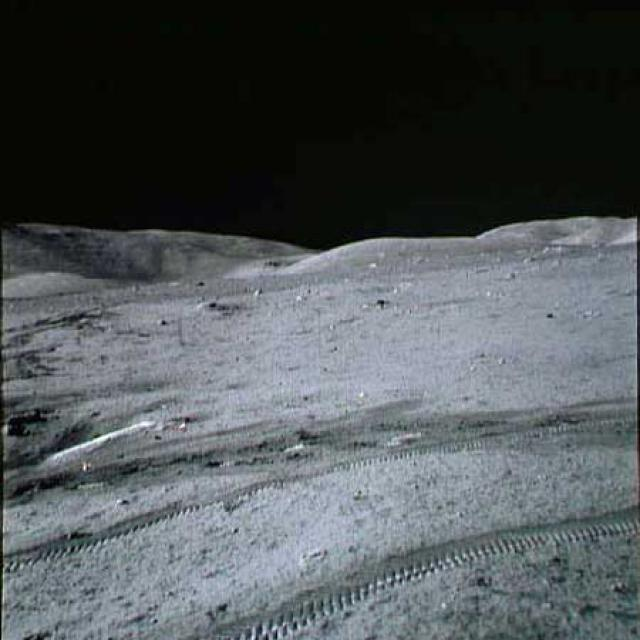crater: (0, 406, 169, 466), (205, 287, 321, 314)
